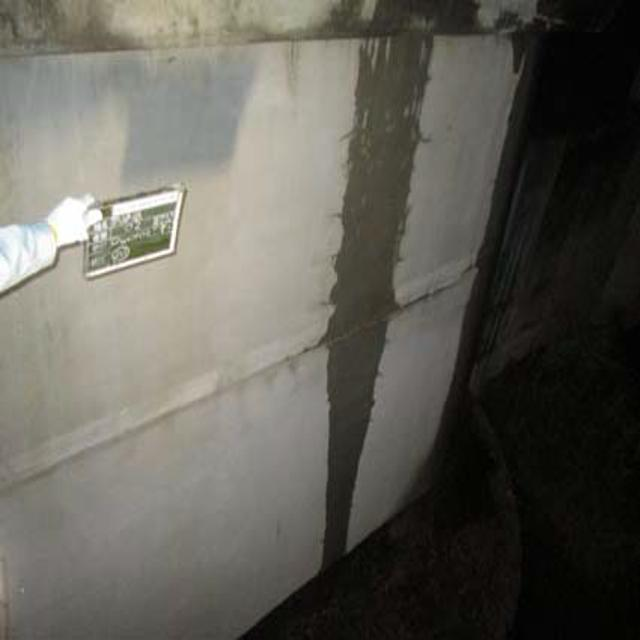leakage: (307, 43, 424, 586)
